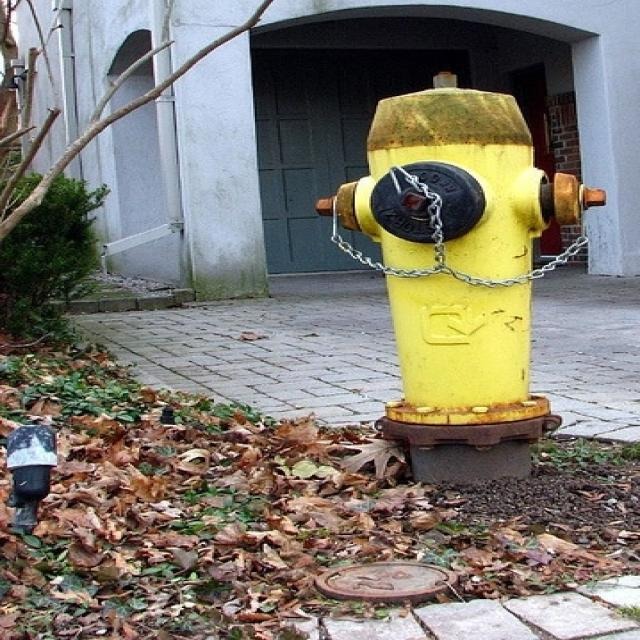fire_hydrant: (224, 13, 640, 640)
